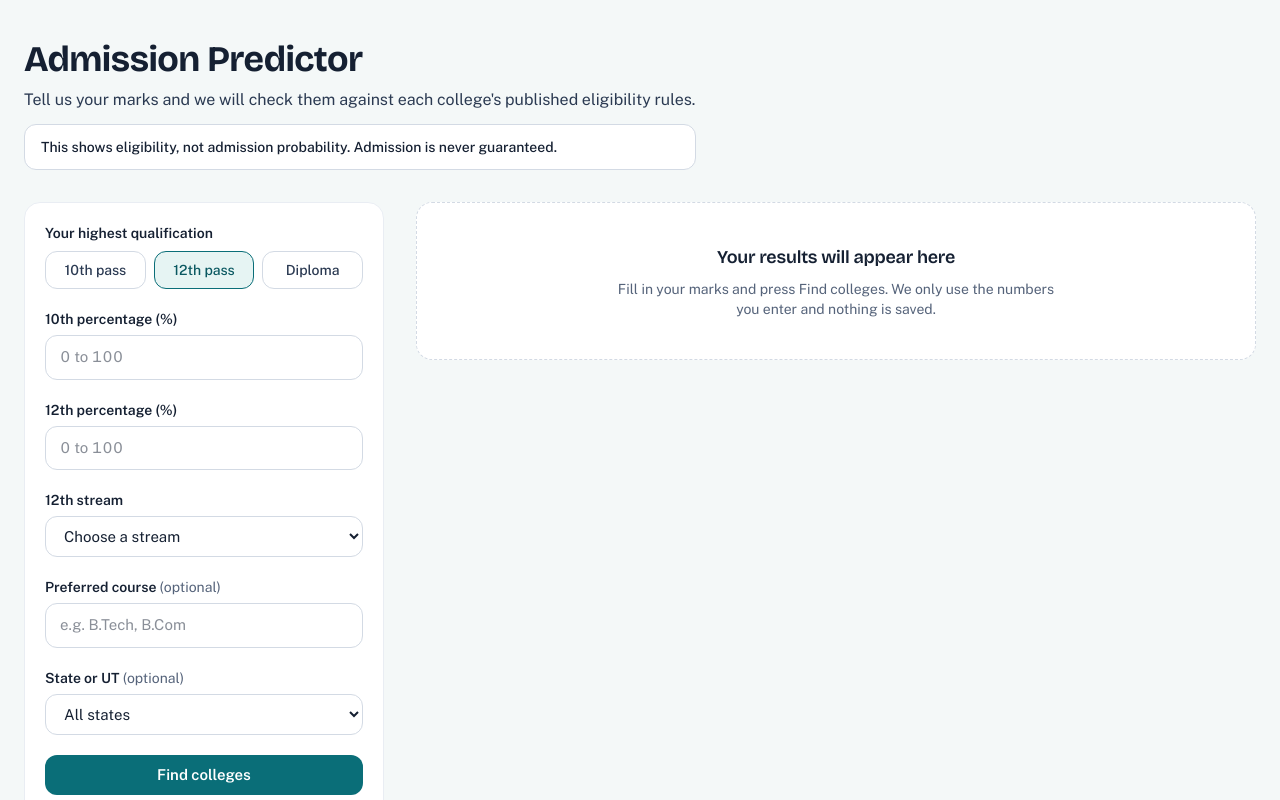
Test: Predictor › rejects a percentage above 100
This screenshot has width=1280, height=800.
Click the radio button labelled "10th pass".
click(95, 270)  # box [45, 251, 146, 289]
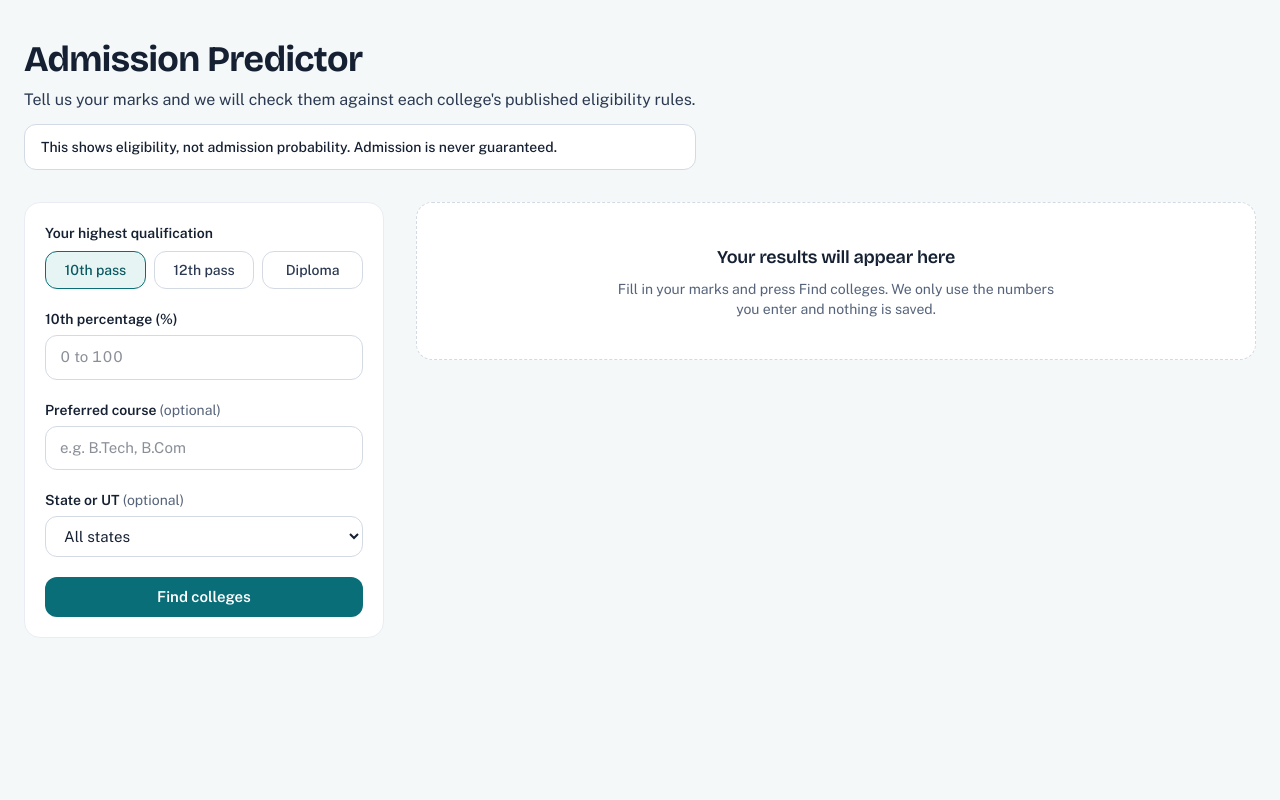
Type "101" into the number field labelled "10th percentage (%)".
click(204, 357); type("101")  # box [45, 335, 363, 380]
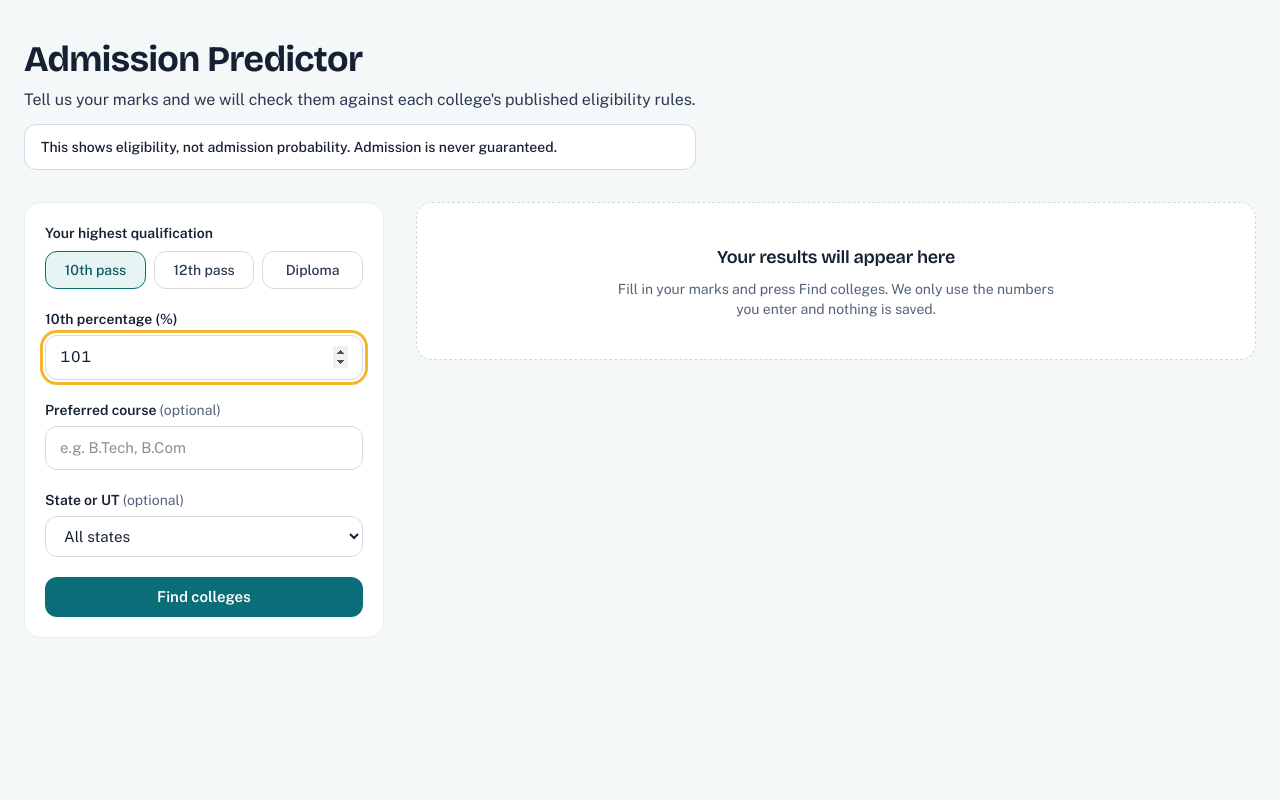
Click the button "Find colleges".
click(204, 597)  # box [45, 577, 363, 617]
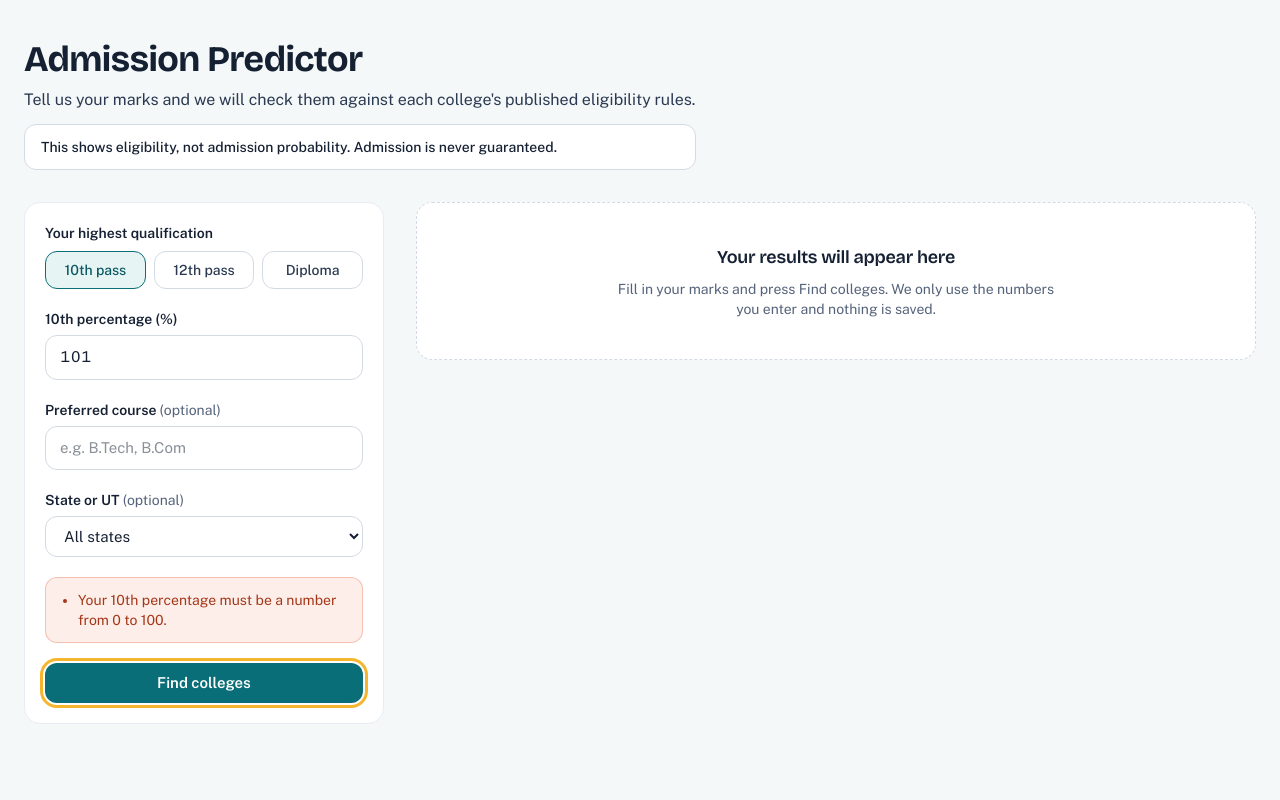
Now the message shows "0 to 100", box [78, 592, 336, 628]
